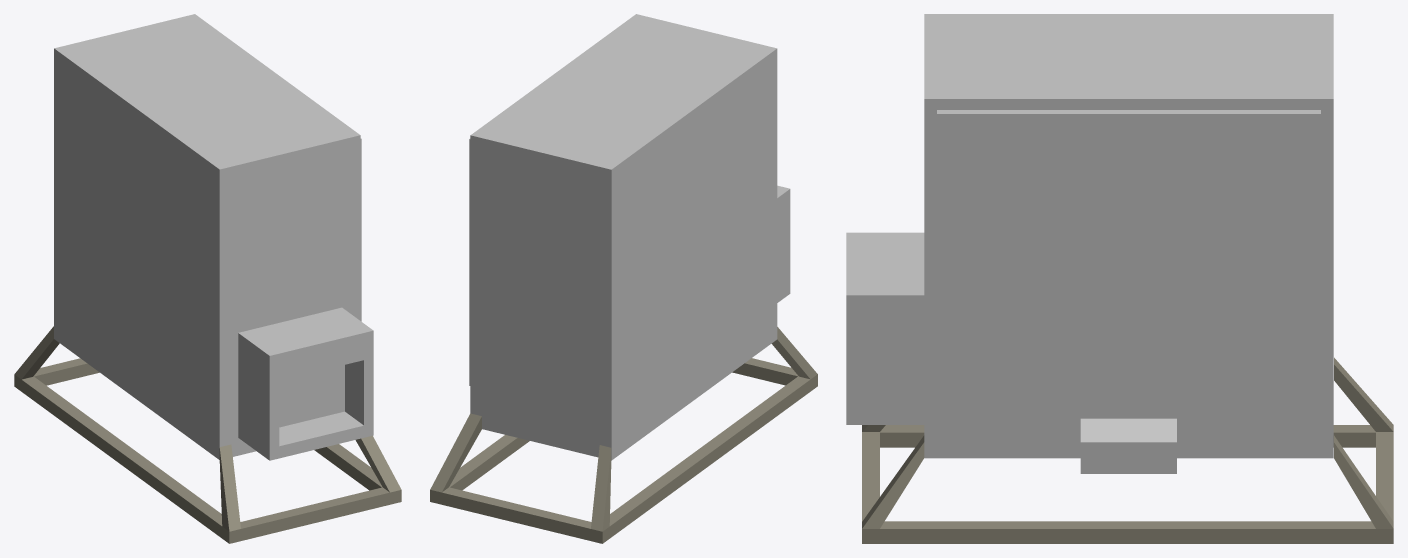
The model's file is Вентиляция вертикальная.fbx.
3 views of the same model, side by side, from view 1: azimuth 30°, elevation 25°; view 2: azimuth 150°, elevation 25°; view 3: azimuth 270°, elevation 25° (orthographic). The views are drawn at different scales.
Visible parts, largest first — view 1: Вентилляция верт; view 2: Вентилляция верт; view 3: Вентилляция верт.
Boxes of the visible parts, bbox=[...] form: Вентилляция верт: bbox=[14, 14, 401, 543]; Вентилляция верт: bbox=[430, 14, 817, 543]; Вентилляция верт: bbox=[846, 14, 1393, 543].
Bounding box in the file's own units: 1.86 × 3.44 × 3.92.
